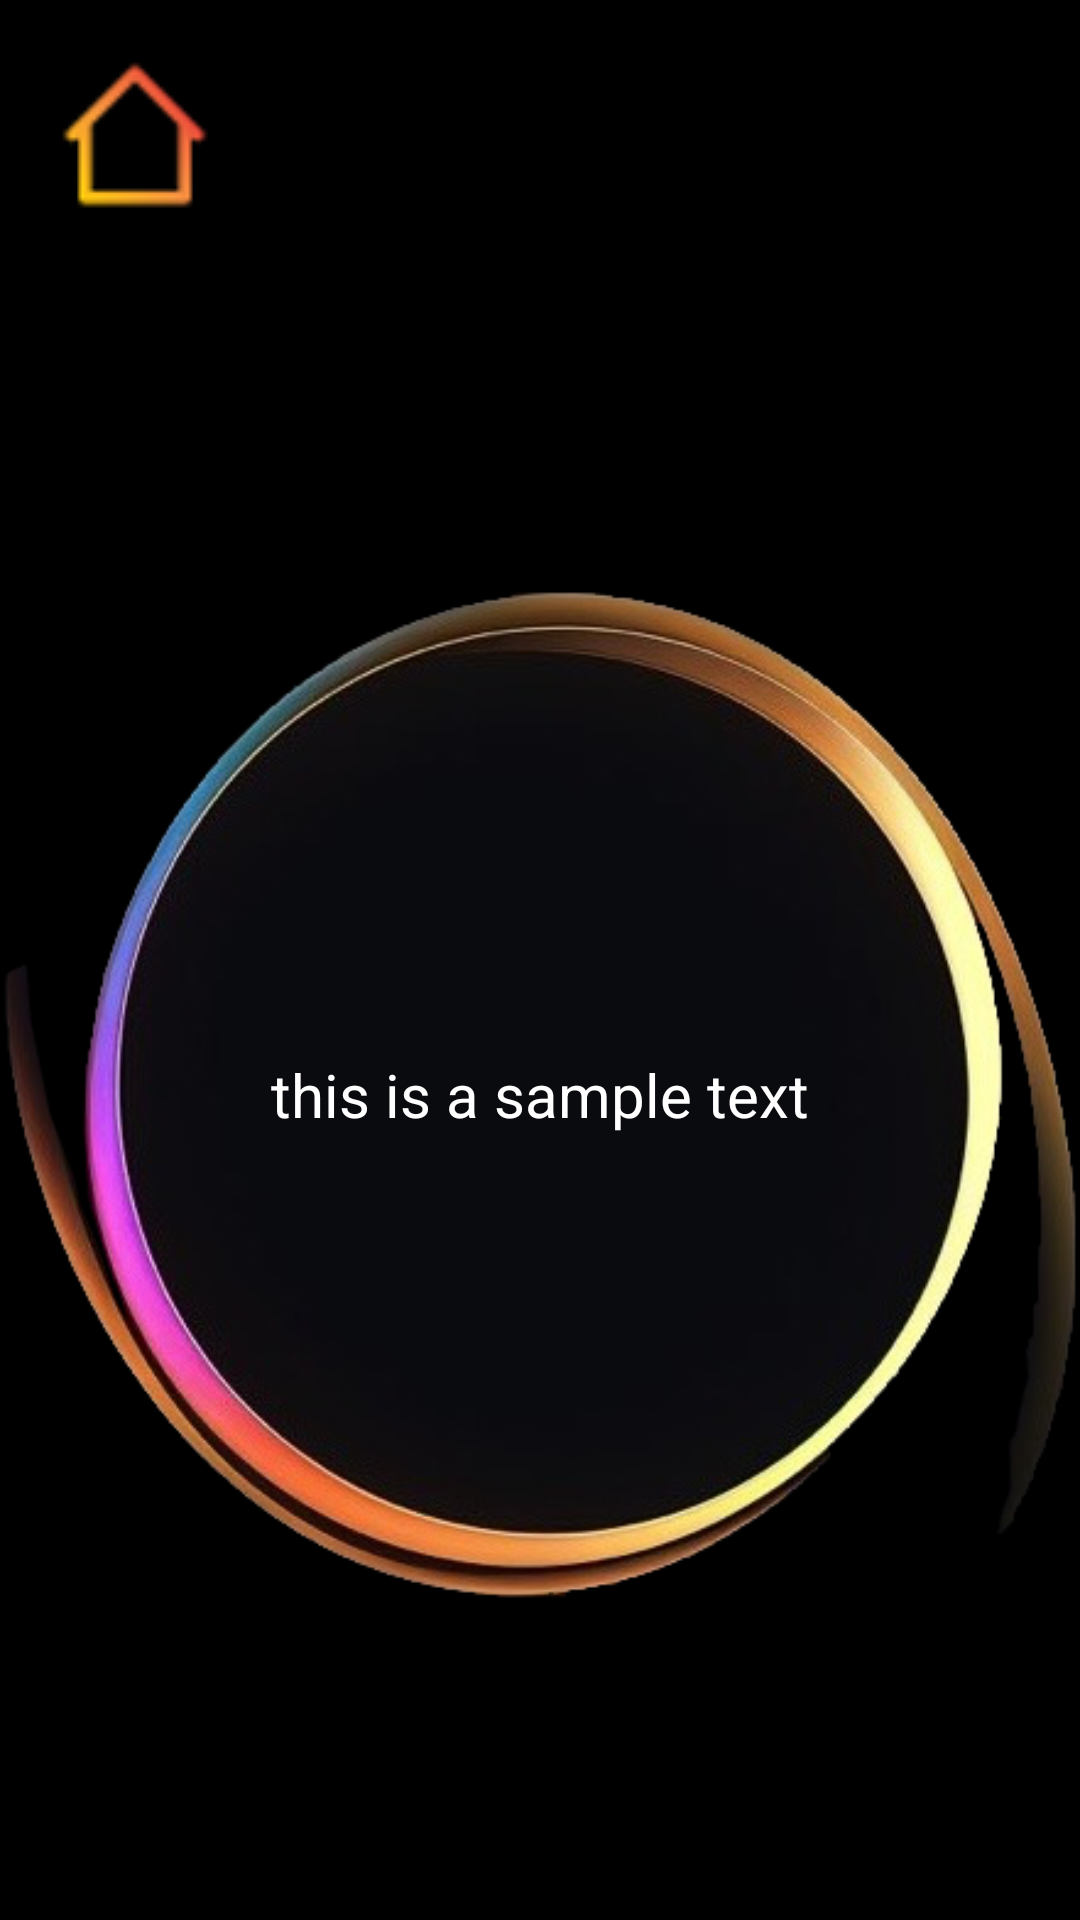

Point at icon controls on the screen. Image size 1080x1920, points as (x=x, y=y).
home: (x=135, y=135)
